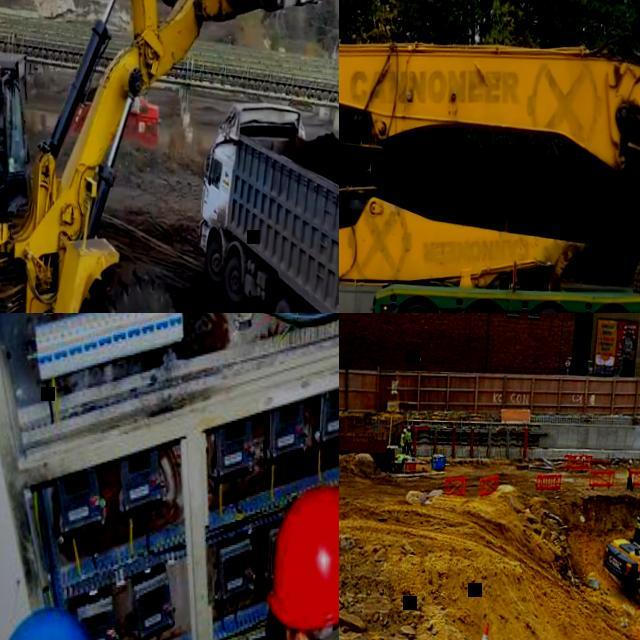Helmet: (262, 487, 344, 640), (5, 595, 90, 640)
